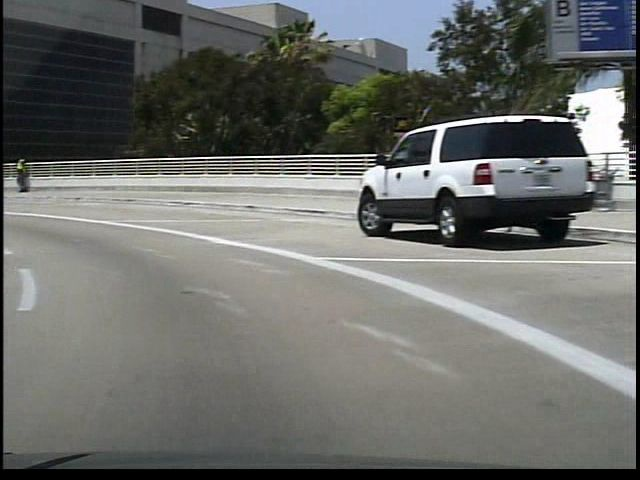person: (10, 155, 27, 195)
